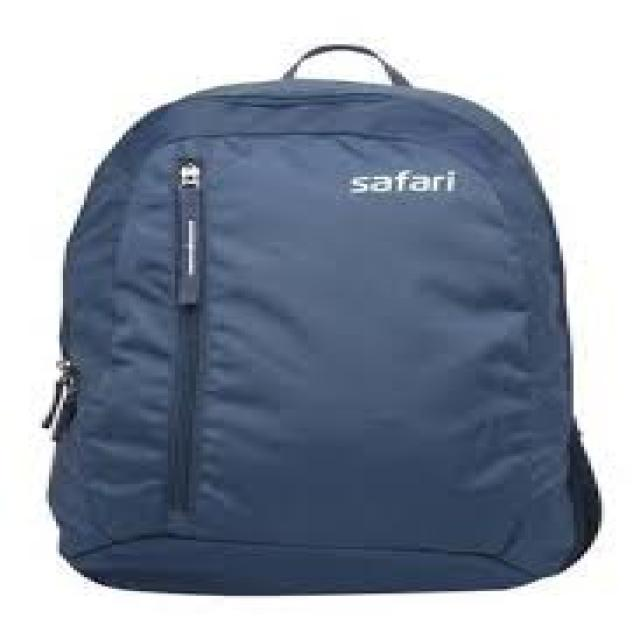backpack: (39, 42, 602, 596)
